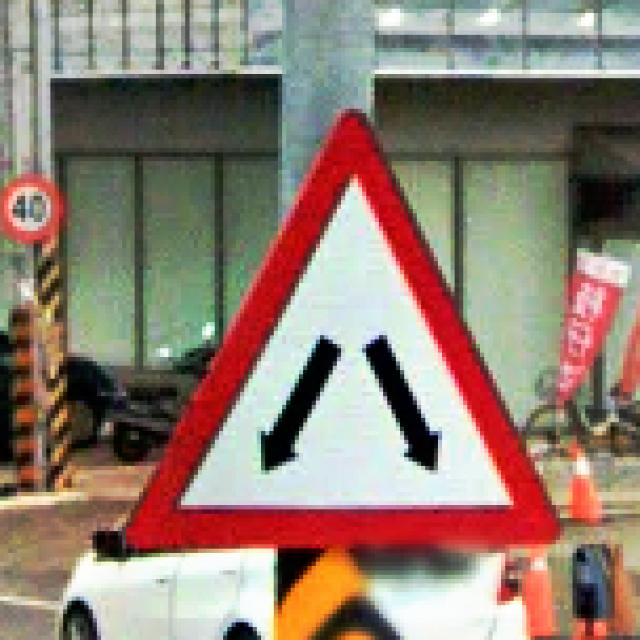diverge: (118, 104, 560, 553)
